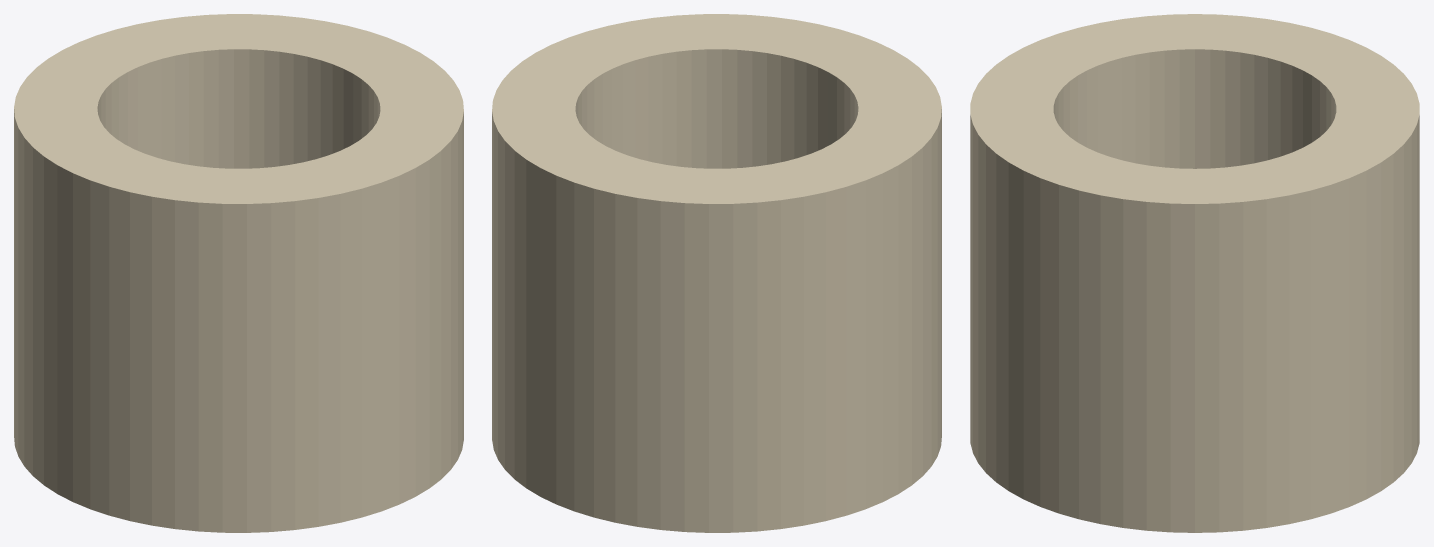
The model's file is tensioner-locating-bushing.glb.
3 views of the same model, side by side, from view 1: azimuth 30°, elevation 25°; view 2: azimuth 150°, elevation 25°; view 3: azimuth 270°, elevation 25° (orthographic).
Parts seen in each view (by area): view 1: world; view 2: world; view 3: world.
Boxes of the visible parts, x1,y1,x2,y2 form: world: (14, 14, 463, 532); world: (492, 14, 941, 532); world: (970, 14, 1419, 532).
Bounding box in the file's own units: 0.0124 × 0.01 × 0.0124.
